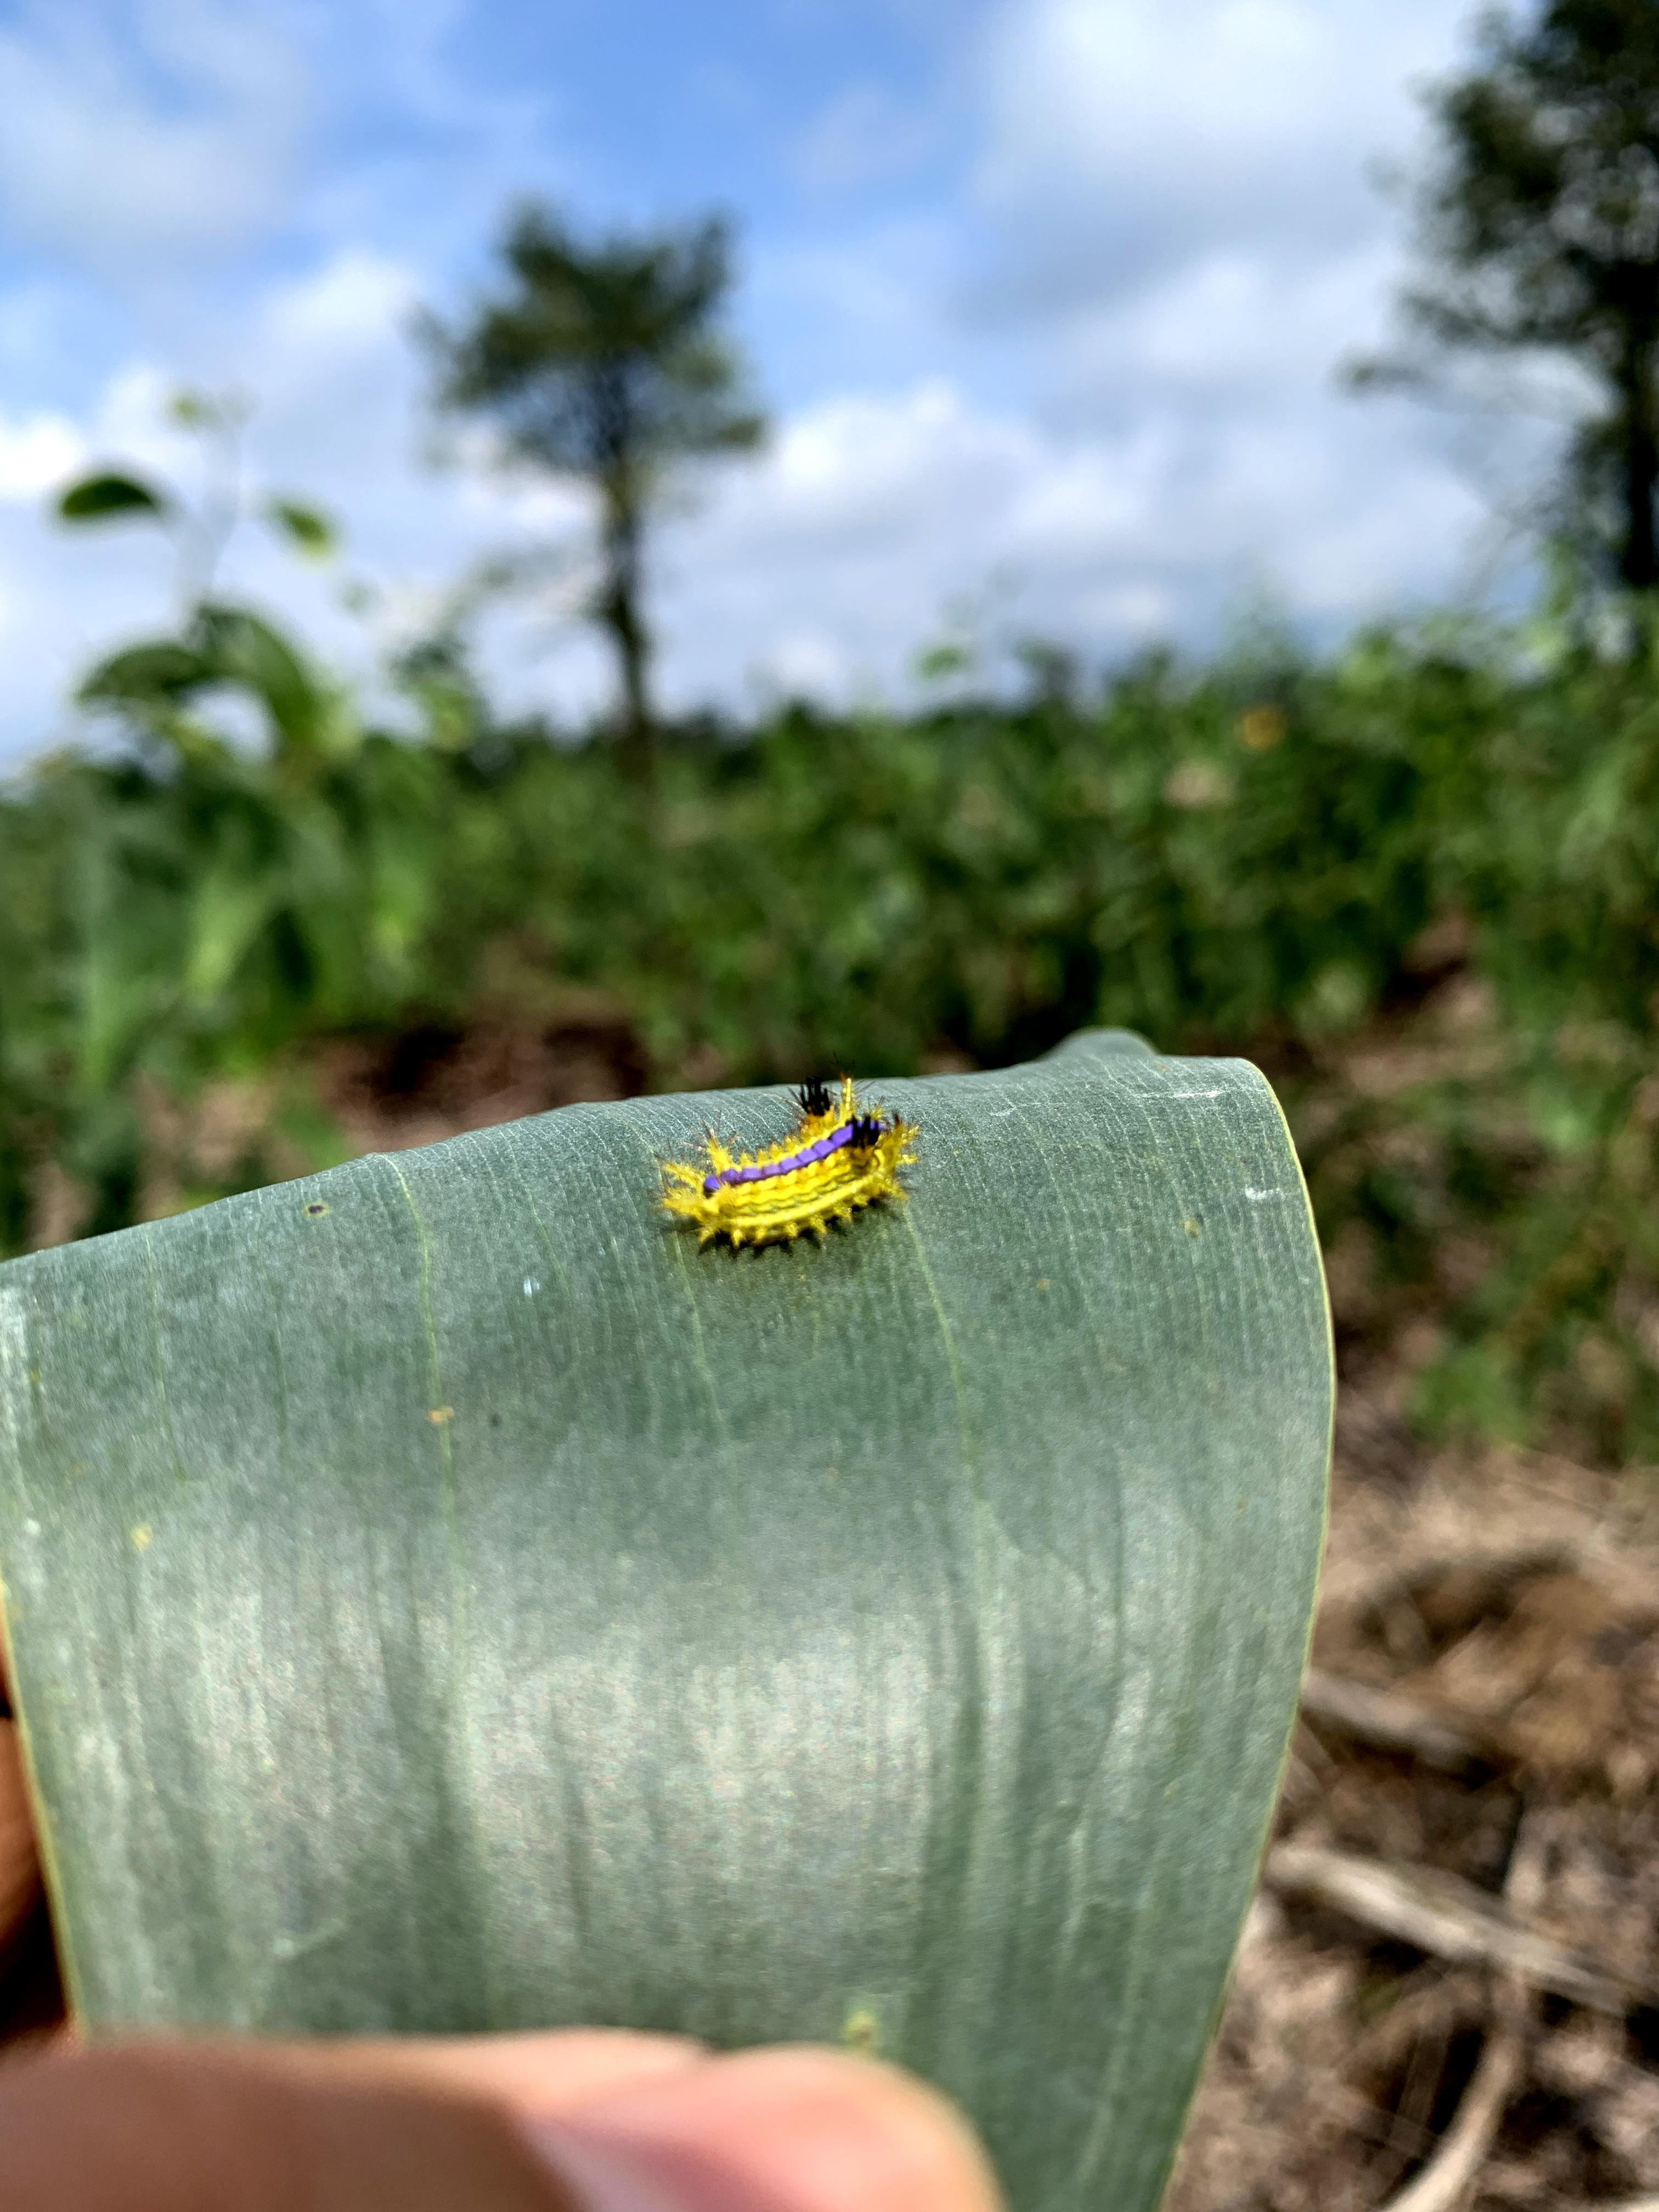Caterpillar: (655, 1054, 917, 1280)
